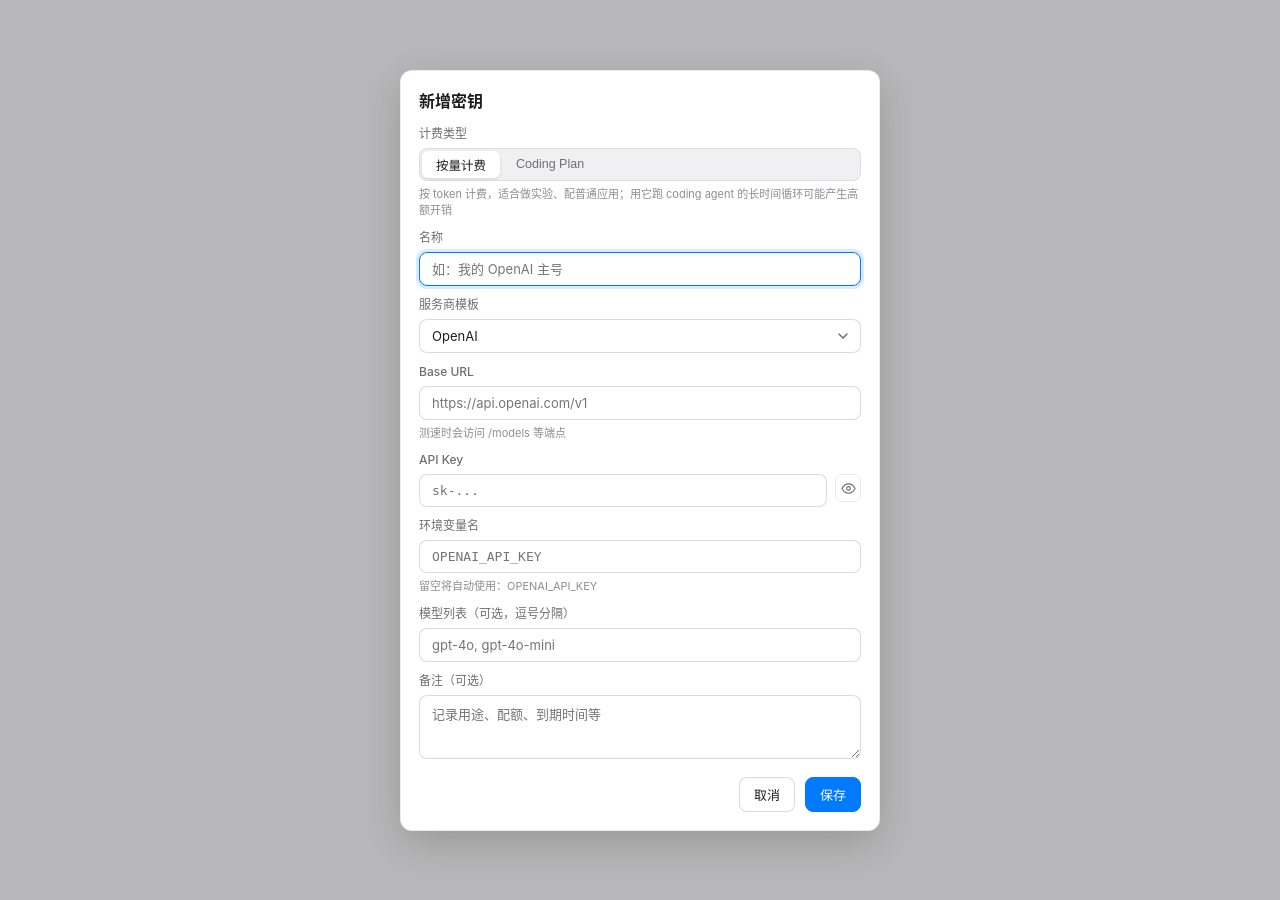
Test case: KeyFormModal › 选择服务商模板后自动填充默认 Base URL 与环境变量名
Select "DeepSeek" in the dropdown at [640, 336], box x1=419 y1=318 x2=861 y2=352
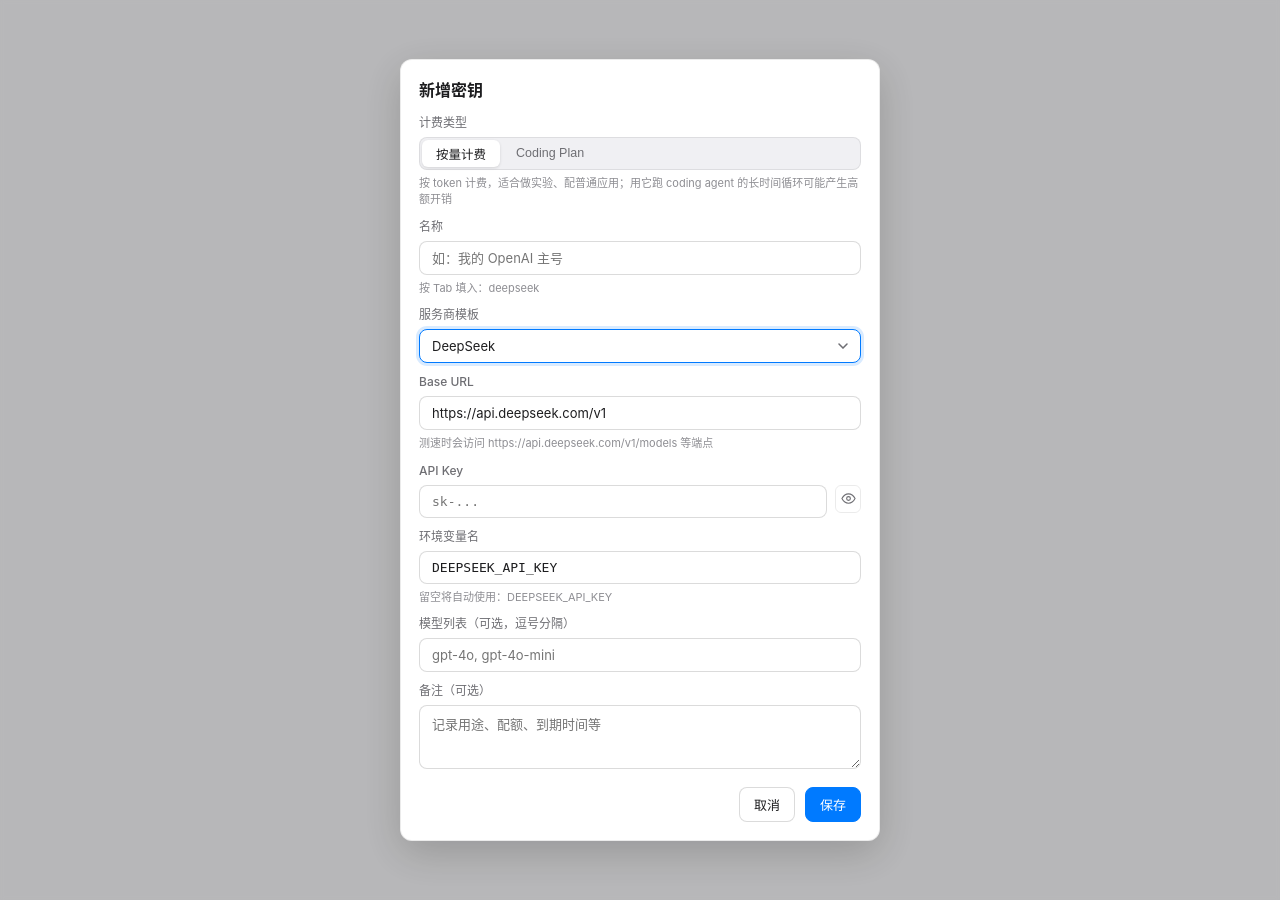
Now the field with placeholder "https://api.openai.com/v1" below "Base URL" holds "https://api.deepseek.com/v1", box x1=419 y1=396 x2=861 y2=430
Now the field with placeholder "DEEPSEEK_API_KEY" below "环境变量名" is shown, box x1=419 y1=551 x2=861 y2=584
